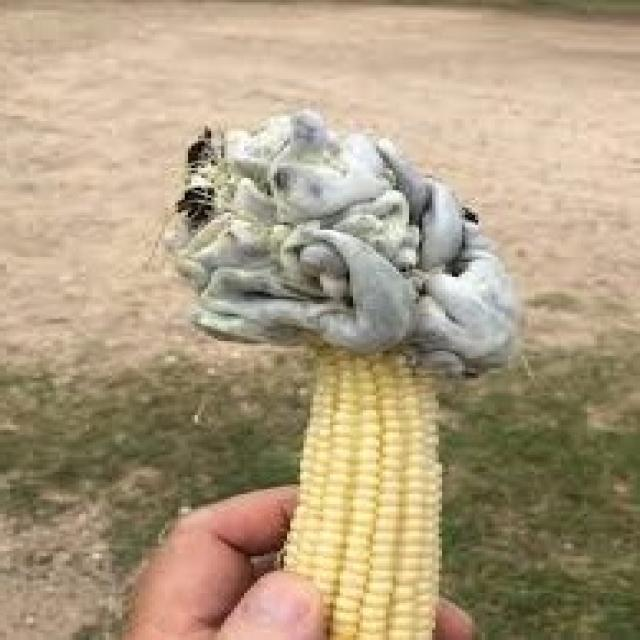Leaf_Scald: (92, 72, 582, 442)
